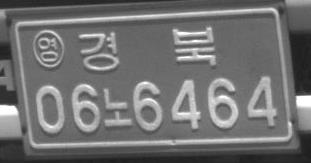0: (34, 84, 64, 134)
4: (170, 78, 201, 130), (246, 75, 277, 127)
6: (207, 77, 240, 130), (132, 79, 163, 132), (70, 82, 101, 134)
경북_D: (78, 25, 216, 72)
노: (102, 87, 132, 127)
영: (31, 29, 64, 69)
